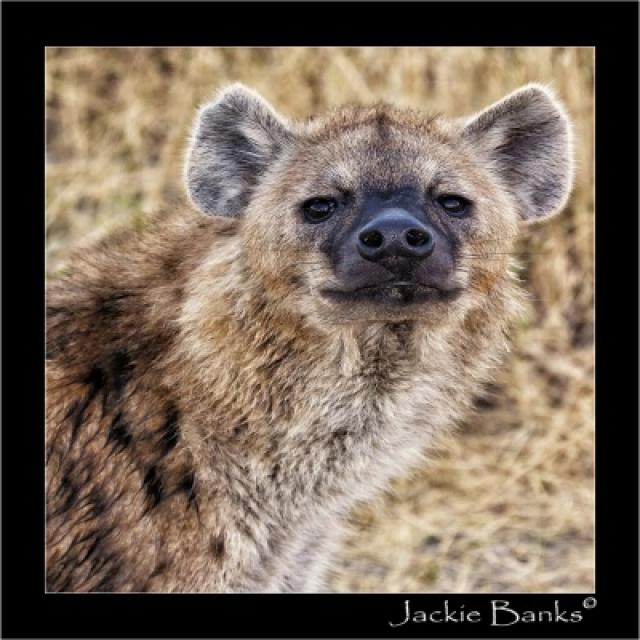hyena: (45, 83, 574, 592)
